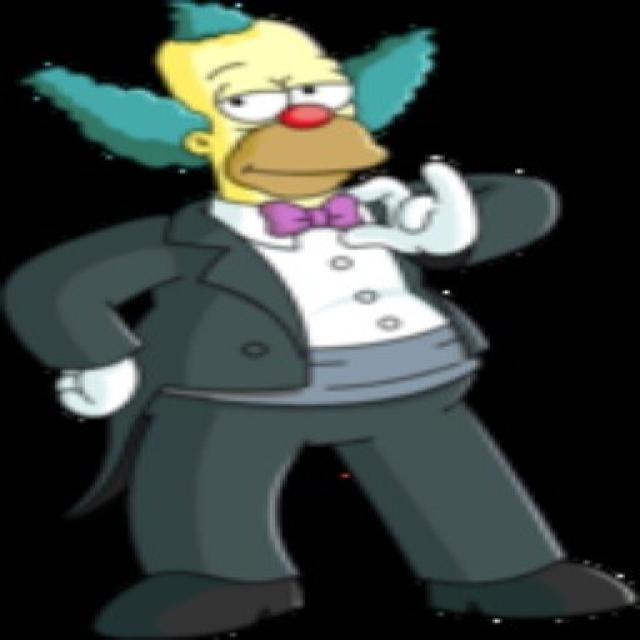Krusty the Clown: (30, 0, 425, 207)
